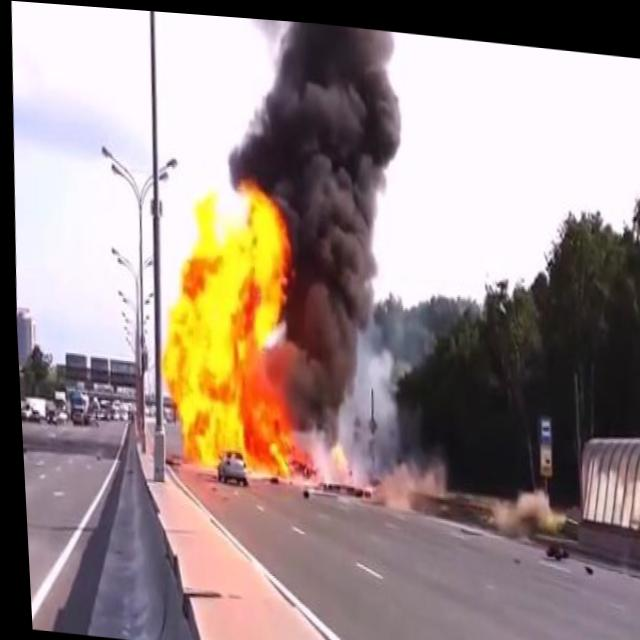fire: (147, 170, 322, 485)
